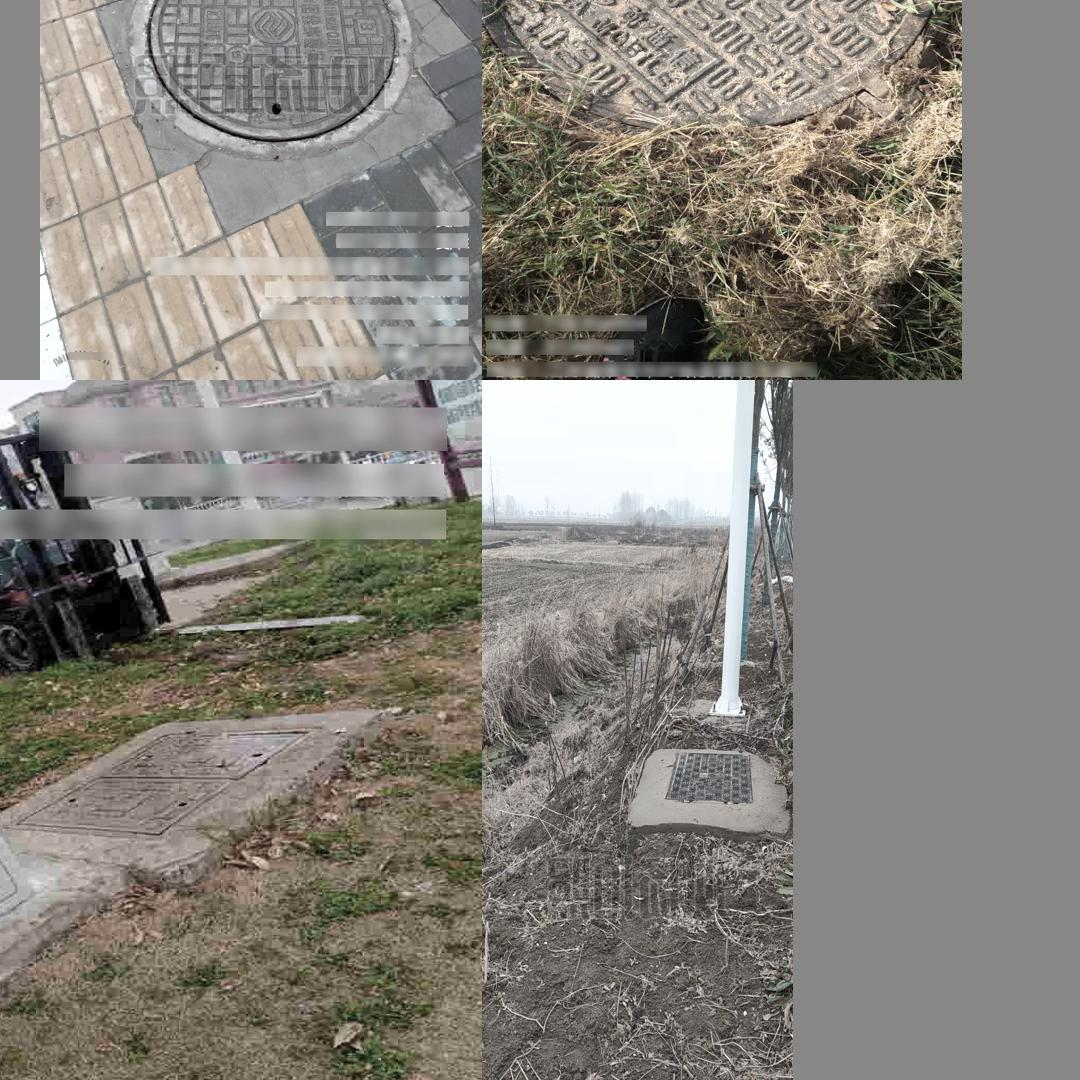good: (489, 0, 943, 132), (127, 0, 414, 160), (2, 727, 314, 840), (663, 752, 755, 806)
